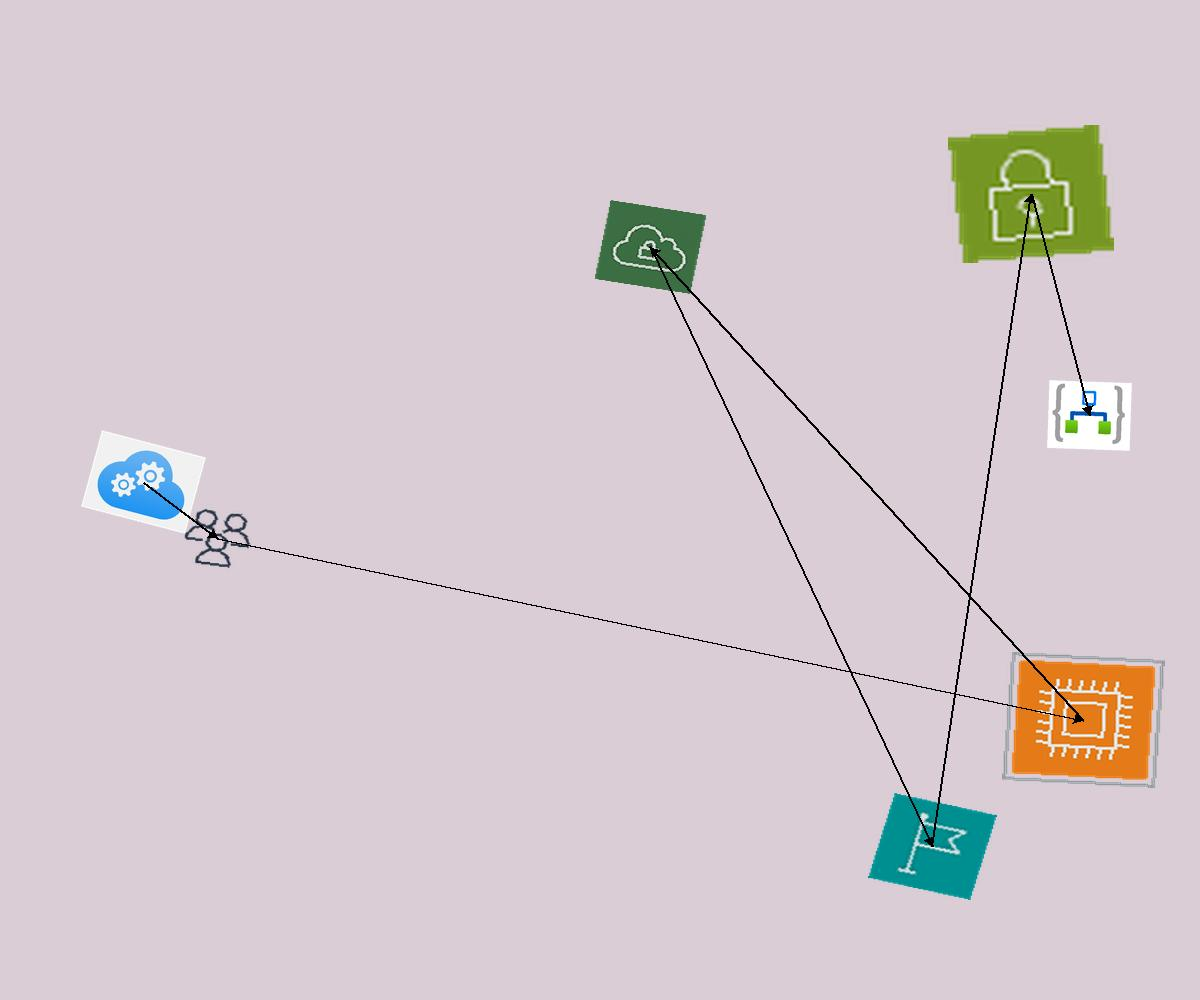AWS-Category_Compute: (1002, 652, 1165, 788)
AWS-Private_vpc: (594, 200, 707, 294)
AWS-Public-subnet: (948, 125, 1114, 263)
AWS-Region: (868, 793, 997, 900)
AWS-Res_Users: (176, 504, 259, 573)
Azure_cloud_services: (81, 430, 206, 534)
Azure_integration-204-Logic-Apps: (1047, 380, 1132, 451)
